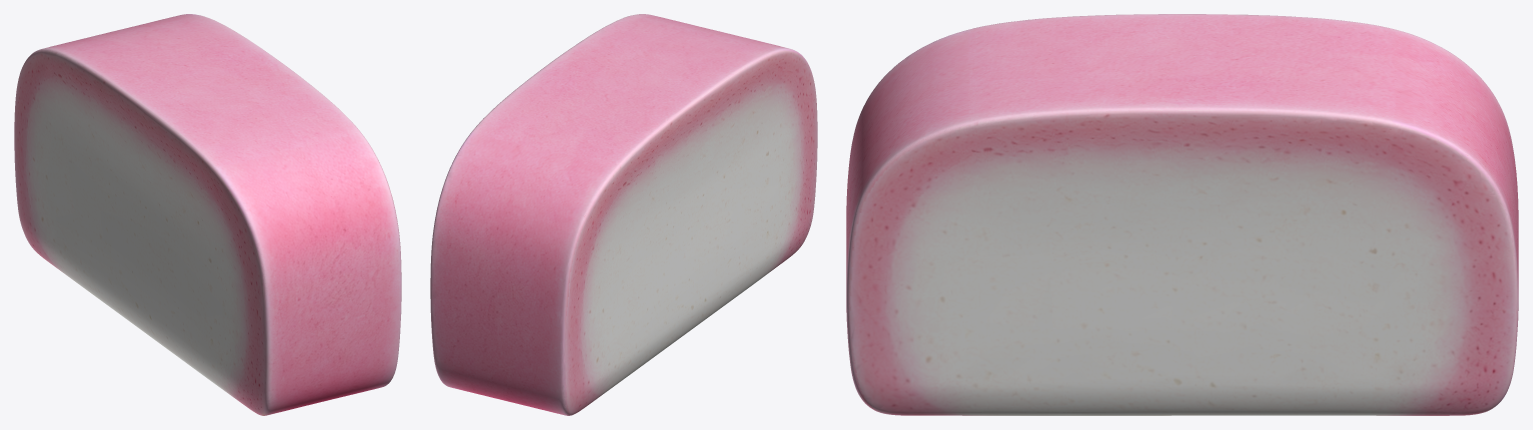
File: oden-fishcake.glb
The picture shows the model from 3 angles, left to right: view 1: azimuth 30°, elevation 25°; view 2: azimuth 150°, elevation 25°; view 3: azimuth 270°, elevation 25°; orthographic projection. The views are drawn at different scales.
Parts seen in each view (by area): view 1: mesh; view 2: mesh; view 3: mesh.
Part boxes in pixels (x1=…): mesh: x1=14, y1=14, x2=401, y2=415; mesh: x1=430, y1=14, x2=817, y2=415; mesh: x1=846, y1=14, x2=1518, y2=415.
Bounding box in the file's own units: 0.686 × 1.04 × 2.
Materials: 1 (1 with a texture image).
